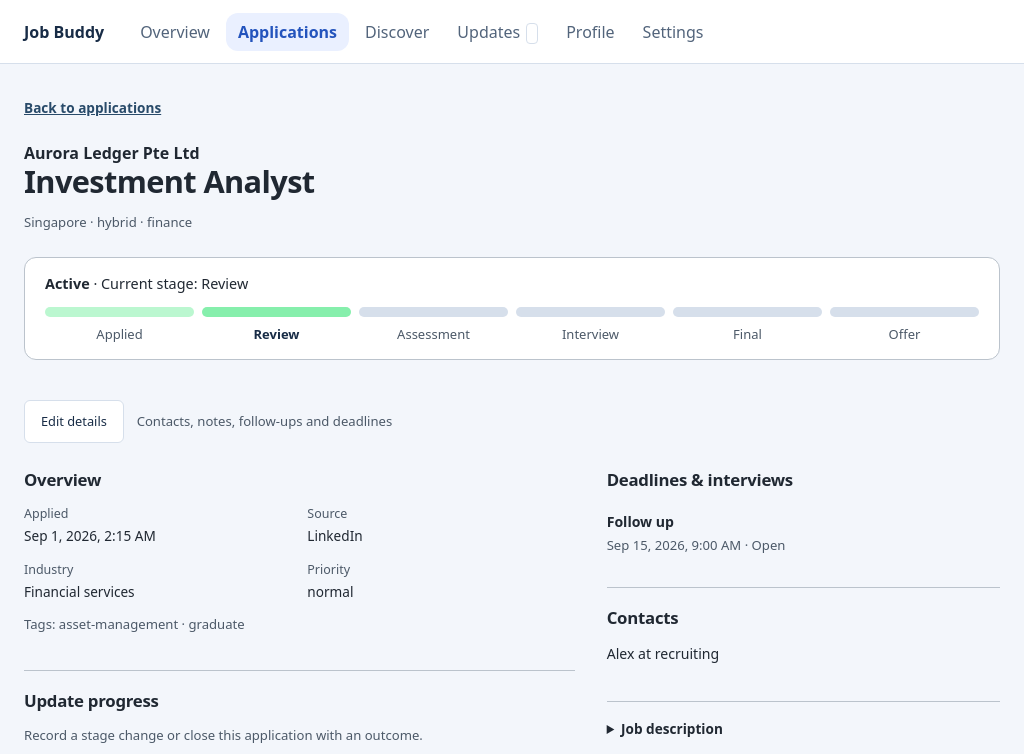
Test: renders the actual route parameter and useful available and unavailable sections
The image size is (1024, 754).
expect the heading "Investment Analyst" is shown: met, box top-left (24, 160), bottom-right (314, 202)
expect the text "Alex at recruiting" is shown: met, box top-left (607, 644), bottom-right (719, 663)
Step 1. Click the heading "Job description" → (672, 729), box top-left (621, 719), bottom-right (723, 738)
(page scrolled)
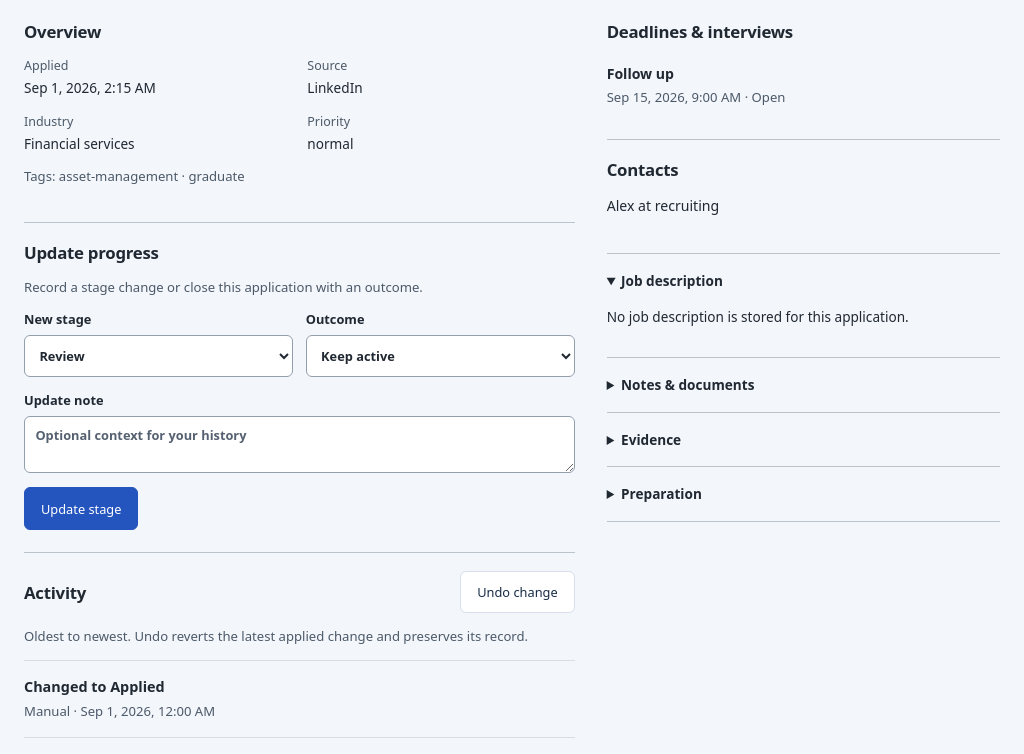
expect the text "No job description is stored for this application." is shown: met, box top-left (607, 306), bottom-right (909, 326)
Step 2. Click the heading "Notes & documents" → (688, 384), box top-left (621, 375), bottom-right (754, 394)
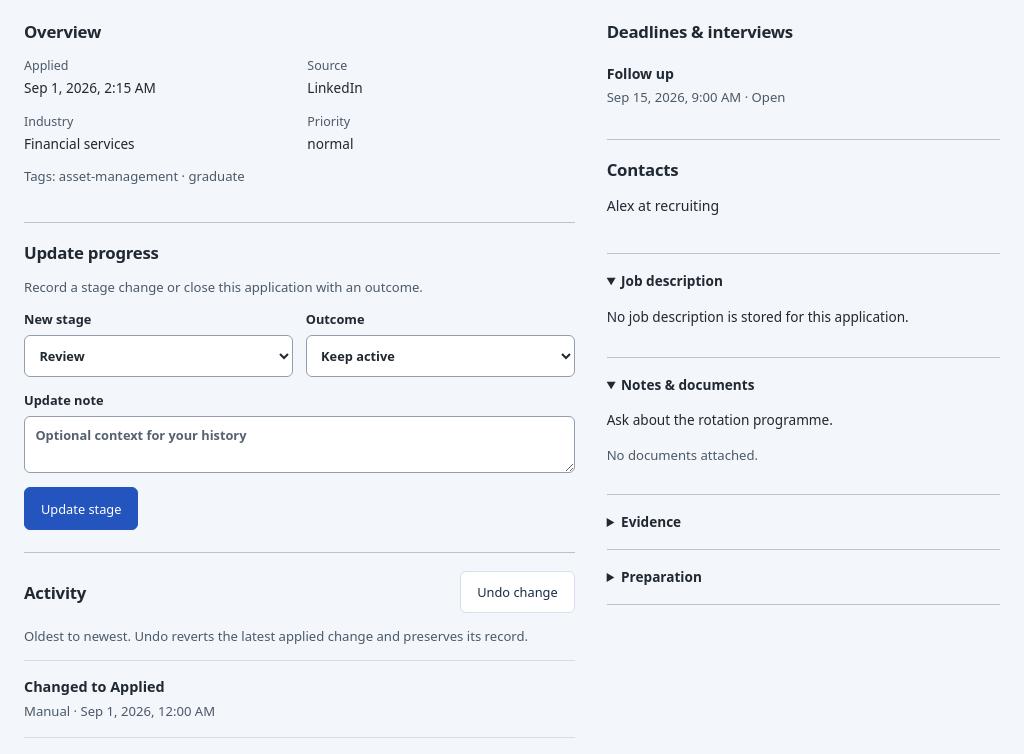
expect the text "Ask about the rotation programme." is shown: met, box top-left (607, 410), bottom-right (833, 429)
